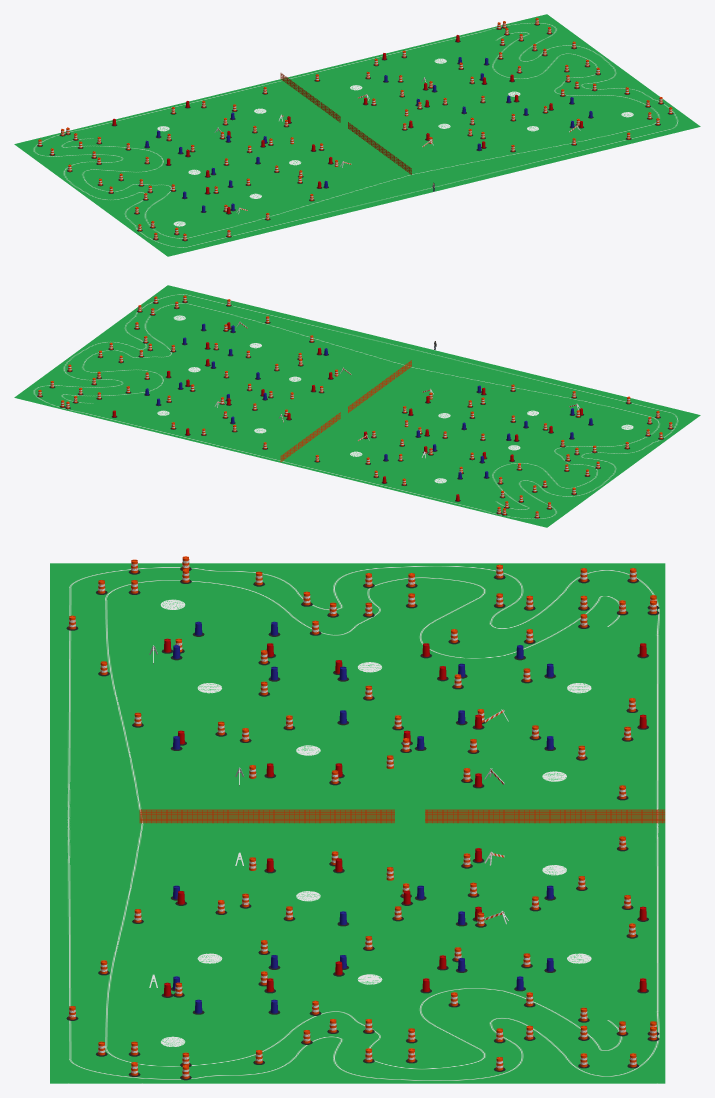
Rendered from Map 2 Orange Red Blue Sawhourse Full 2.dae.
3 renders of one model, top to bottom at view 1: azimuth 30°, elevation 25°; view 2: azimuth 150°, elevation 25°; view 3: azimuth 270°, elevation 25°, orthographic. The views are drawn at different scales.
Parts seen in each view (by area): view 1: Half_Field (×2); view 2: Half_Field (×2); view 3: Half_Field (×2).
Part boxes in pixels (bbox=[...]): Half_Field (×2): bbox=[14, 14, 700, 256]; Half_Field (×2): bbox=[14, 285, 700, 527]; Half_Field (×2): bbox=[50, 563, 665, 1083].
Size of the model in its own units: 3937 by 1970 by 67.85.
16 materials, 2 textured.
